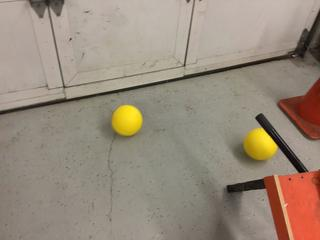power_cell: (241, 123, 285, 166), (107, 101, 148, 141)
